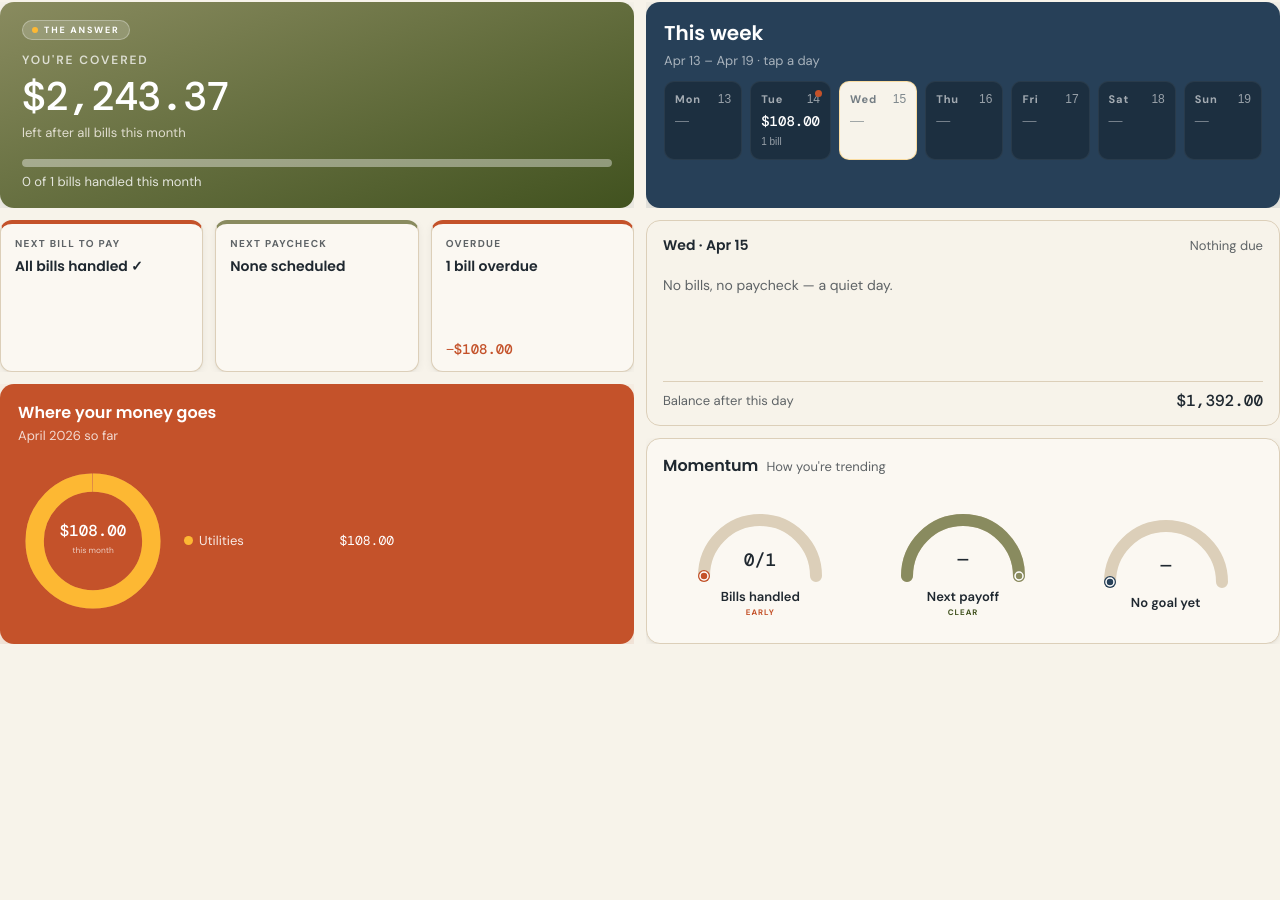
Scenario: HomeTab — interactions › shows a bill on its due day in the detail when that day is selected
The width and height of the screenshot is (1280, 900).
Click the text "Tue" at (772, 99), box [761,92,783,106]
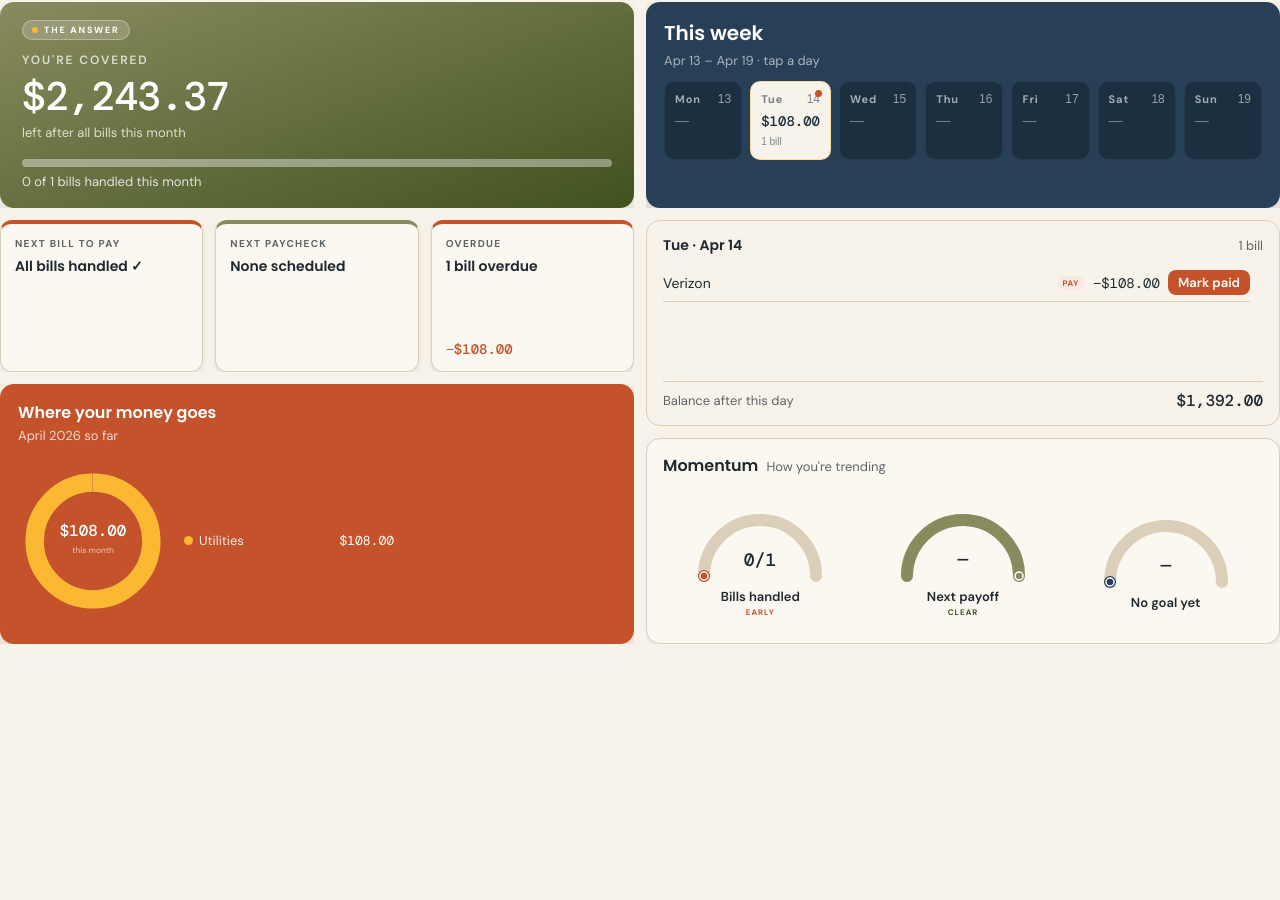
Expected: the text "Verizon" is shown, [663,274,711,292]
